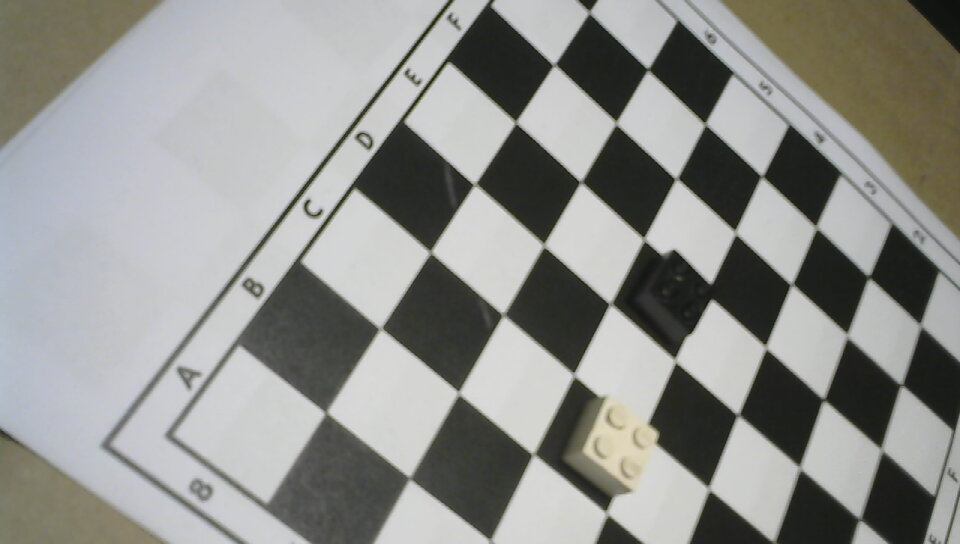bp: (629, 245, 720, 340)
